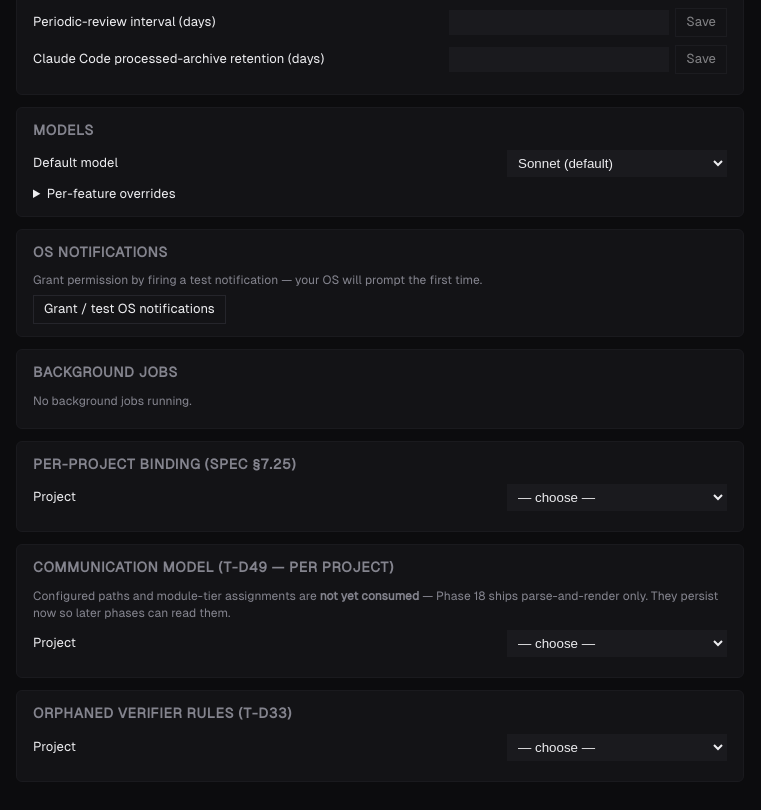
Test: Phase 15 — settings panel (SPEC §7.25) › Phase 18 Slice 2: communication-model section shows the "none" hint for freeform-shaped views
(page scrolled)
Select "demo" in the dropdown with test id "comm-project-select": (617, 644) [507,630,727,657]
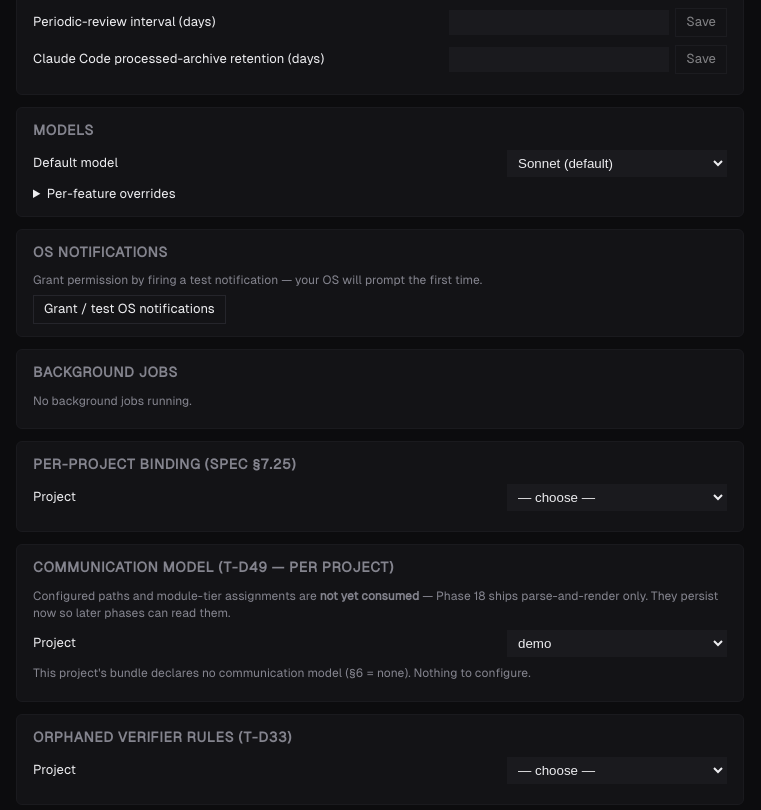
Now the text with test id "comm-bundle-none" is shown, box [33,666,531,680]
